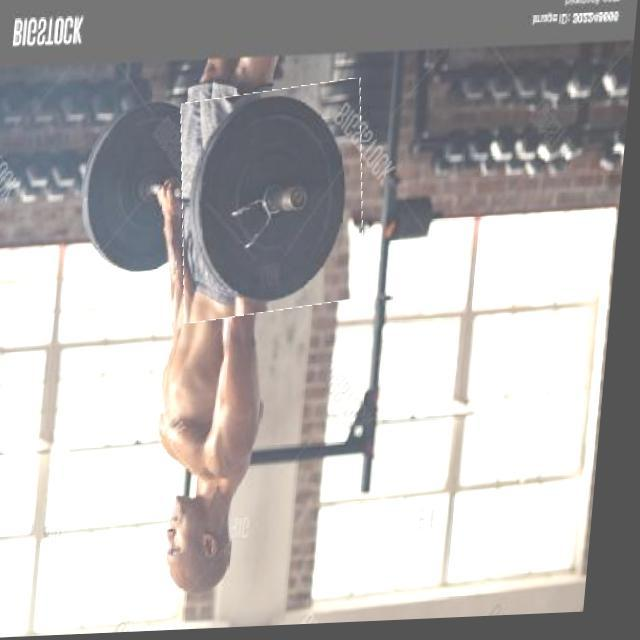barbell: (175, 85, 379, 322)
